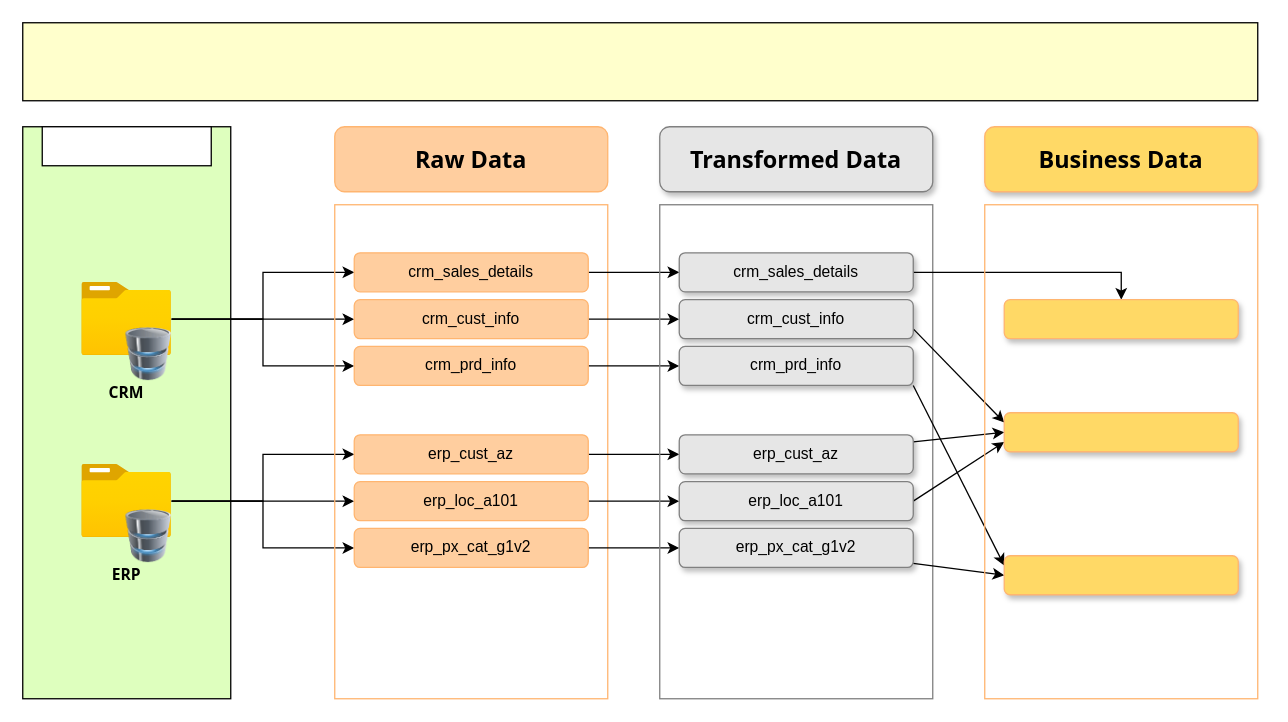
Image size: 1288x722. Some labels were removed from this diagram. The shapes that lost their labels are listed below. From the top down, each one's centre as x and y in pixels, then its label:
At (639,61): "DATA FLOW".
At (126,145): "Sources".
At (1122,320): "fact_table".
At (1122,433): "dim_customers".
At (1122,576): "dim_products".
